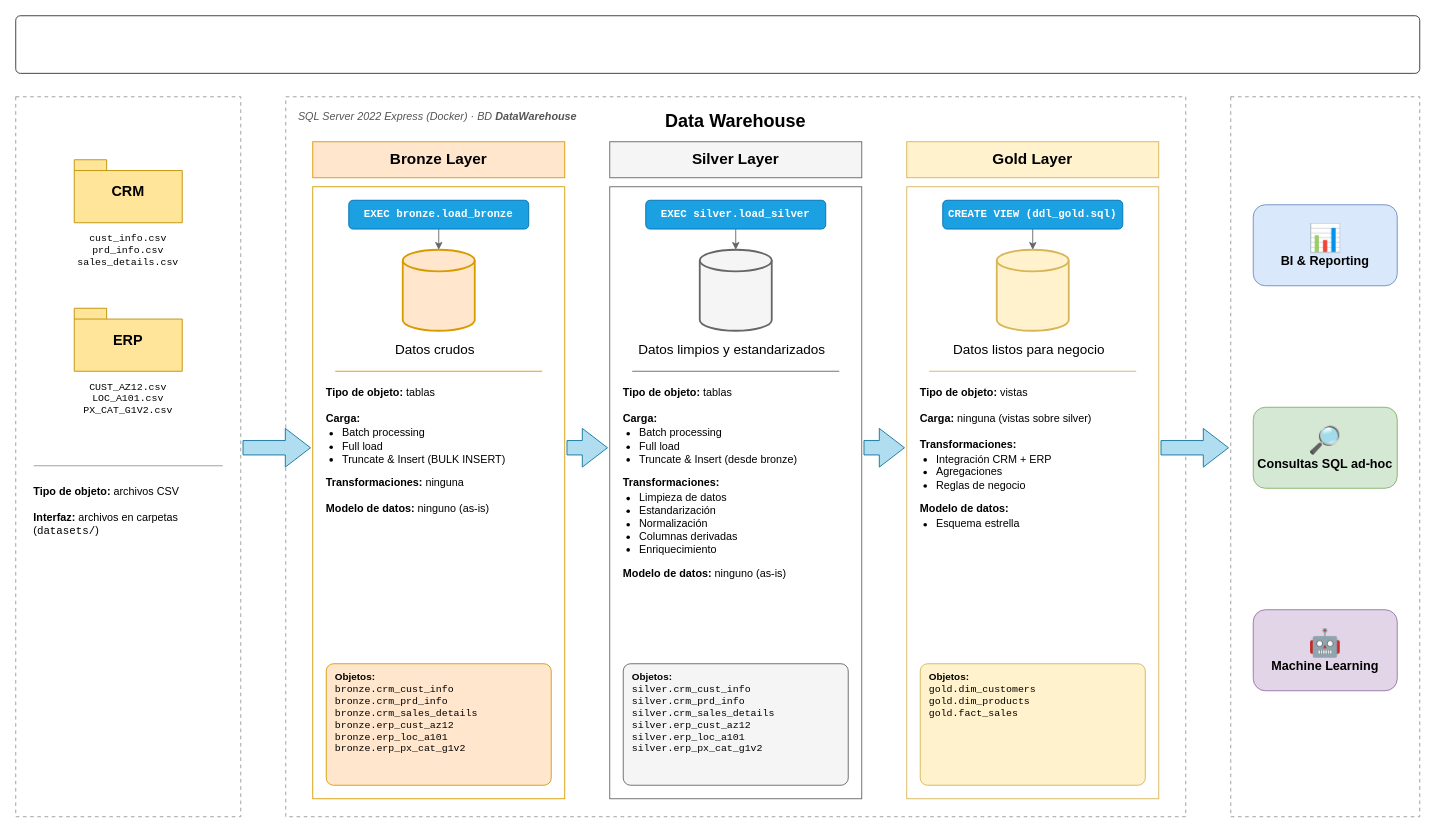
Image size: 1436x833. Some labels were removed from this diagram. Here are the shapes that lost their labels. From the top down, the box of each, then its label:
(15, 15, 1420, 73): Arquitectura Medallion — Data Warehouse de ventas (CRM + ERP)
(15, 96, 241, 817): Fuentes
(1230, 96, 1420, 817): Consumo
